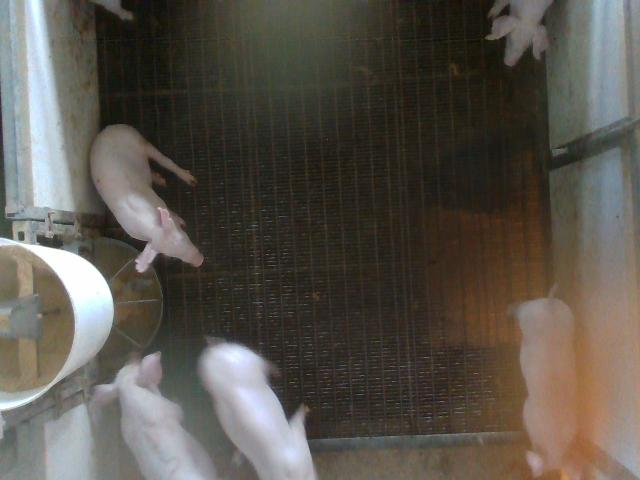pig-3: (92, 351, 216, 479)
pig-4: (515, 298, 585, 479)
